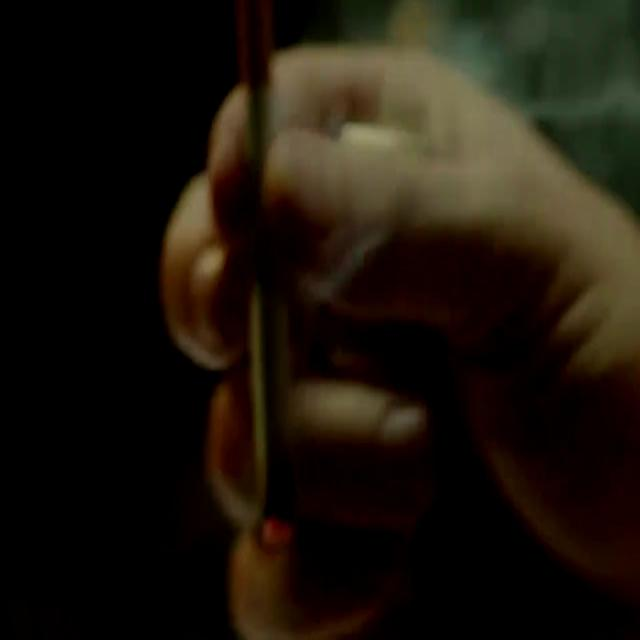Smooking: (236, 5, 312, 578)
